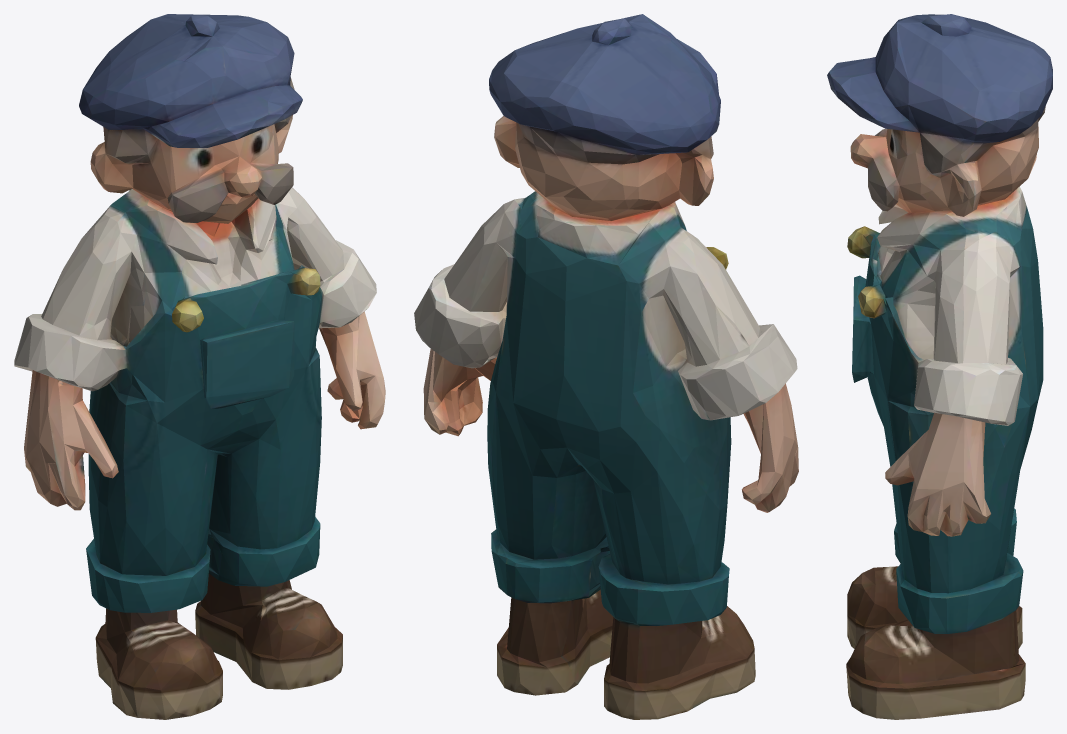
The model's file is gus.glb.
3 renders of one model, left to right at view 1: azimuth 30°, elevation 25°; view 2: azimuth 150°, elevation 25°; view 3: azimuth 270°, elevation 25°, orthographic.
Parts seen in each view (by area): view 1: geometry_0; view 2: geometry_0; view 3: geometry_0.
Part boxes in pixels (x1,y1,x2,y2): geometry_0: (14, 14, 385, 719); geometry_0: (414, 14, 798, 719); geometry_0: (827, 14, 1052, 719).
Bounding box in the file's own units: 0.5745 × 0.9978 × 0.3147.
Materials: 1 (1 with a texture image).
